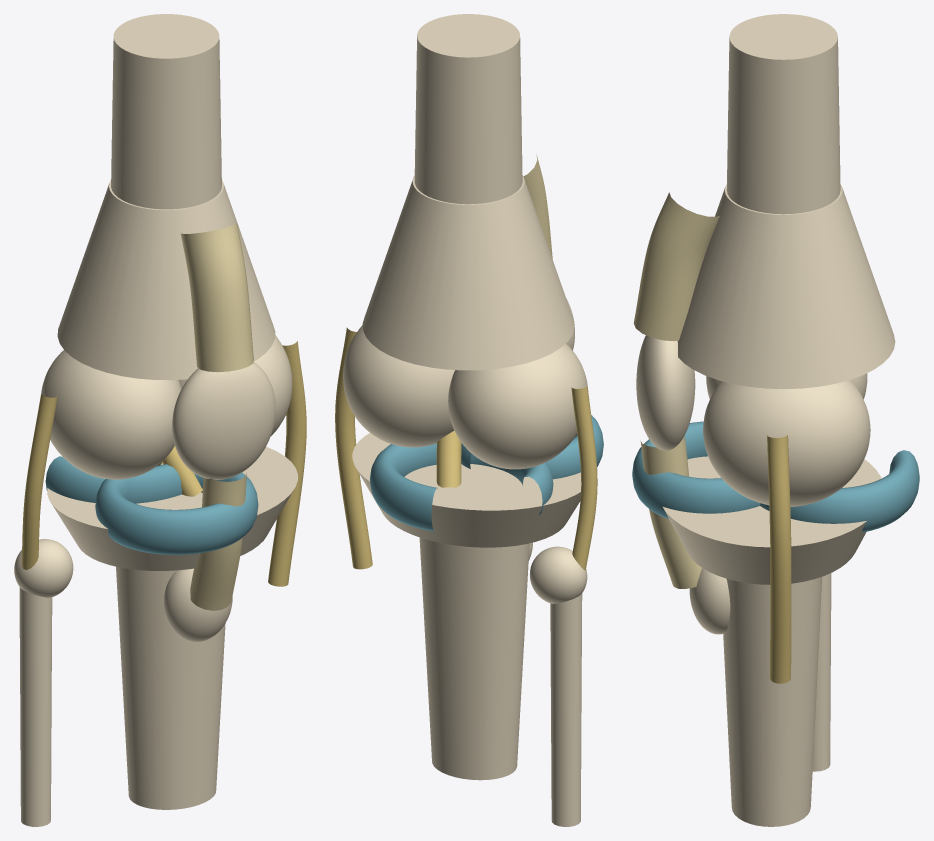
Rendered from schematic-knee-joint.glb.
3 views of the same model, side by side, from view 1: azimuth 30°, elevation 25°; view 2: azimuth 150°, elevation 25°; view 3: azimuth 270°, elevation 25° (orthographic). The views are drawn at different scales.
Visible parts, largest first — view 1: Femur (distal), Tibia (proximal), Fibula (proximal), Patella, Quadriceps tendon, Lateral meniscus, Medial collateral ligament, Patellar ligament, Medial meniscus, Lateral collateral ligament, Anterior cruciate ligament; view 2: Femur (distal), Tibia (proximal), Fibula (proximal), Medial meniscus, Medial collateral ligament, Lateral collateral ligament, Lateral meniscus, Posterior cruciate ligament, Quadriceps tendon; view 3: Femur (distal), Tibia (proximal), Quadriceps tendon, Medial collateral ligament, Patella, Medial meniscus, Lateral meniscus, Patellar ligament, Fibula (proximal).
Boxes of the visible parts, x1=… form: Femur (distal): x1=41, y1=14, x2=292, y2=479; Tibia (proximal): x1=47, y1=446, x2=297, y2=809; Fibula (proximal): x1=14, y1=539, x2=73, y2=826; Patella: x1=172, y1=362, x2=275, y2=479; Quadriceps tendon: x1=180, y1=223, x2=253, y2=372; Lateral meniscus: x1=95, y1=472, x2=258, y2=554; Medial collateral ligament: x1=268, y1=341, x2=306, y2=586; Patellar ligament: x1=190, y1=473, x2=246, y2=610; Medial meniscus: x1=45, y1=456, x2=181, y2=503; Lateral collateral ligament: x1=21, y1=393, x2=57, y2=569; Anterior cruciate ligament: x1=162, y1=446, x2=202, y2=496; Femur (distal): x1=343, y1=14, x2=587, y2=469; Tibia (proximal): x1=352, y1=433, x2=581, y2=780; Fibula (proximal): x1=529, y1=546, x2=587, y2=826; Medial meniscus: x1=370, y1=443, x2=553, y2=531; Medial collateral ligament: x1=335, y1=327, x2=372, y2=569; Lateral collateral ligament: x1=571, y1=386, x2=597, y2=570; Lateral meniscus: x1=461, y1=415, x2=603, y2=479; Posterior cruciate ligament: x1=436, y1=430, x2=461, y2=487; Quadriceps tendon: x1=523, y1=155, x2=552, y2=258; Femur (distal): x1=677, y1=14, x2=895, y2=506; Tibia (proximal): x1=663, y1=456, x2=881, y2=826; Quadriceps tendon: x1=633, y1=192, x2=719, y2=341; Medial collateral ligament: x1=767, y1=435, x2=791, y2=683; Patella: x1=636, y1=335, x2=695, y2=450; Medial meniscus: x1=760, y1=450, x2=919, y2=532; Lateral meniscus: x1=632, y1=421, x2=759, y2=518; Patellar ligament: x1=640, y1=435, x2=701, y2=588; Fibula (proximal): x1=812, y1=573, x2=831, y2=771.
Size of the model in its own units: 10.41 by 27.95 by 9.27.
